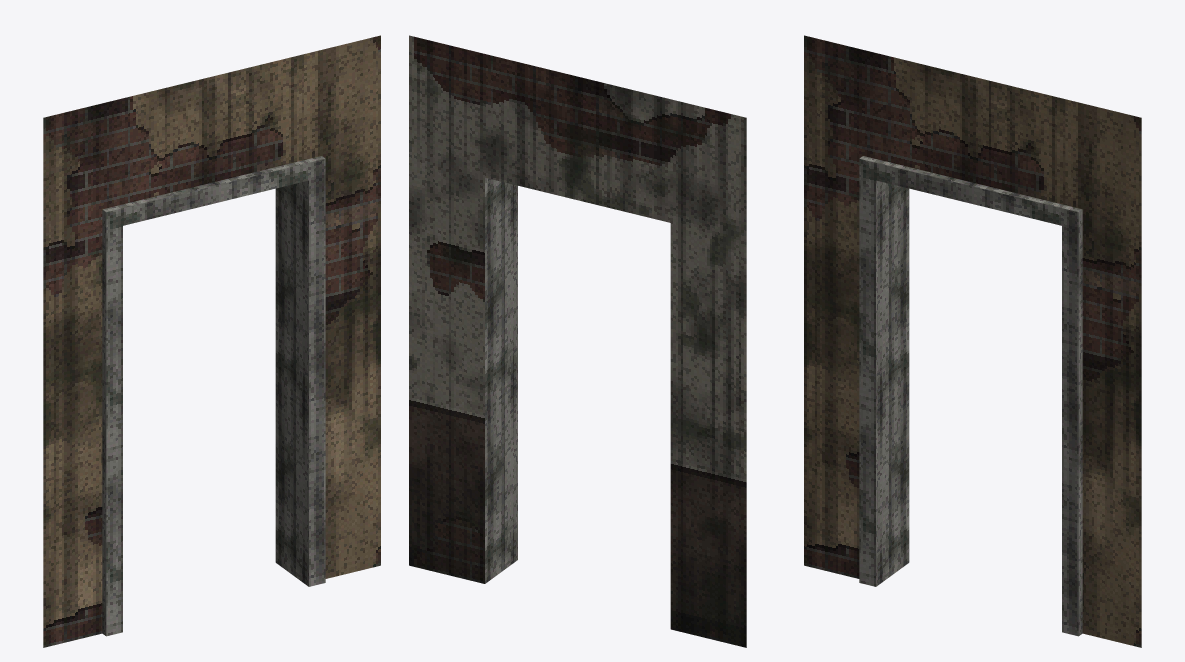
The model's file is ext_door.gltf.
The picture shows the model from 3 angles, left to right: view 1: azimuth 30°, elevation 25°; view 2: azimuth 150°, elevation 25°; view 3: azimuth 330°, elevation 25°; orthographic projection.
Visible parts, largest first — view 1: ext_door-col; view 2: ext_door-col; view 3: ext_door-col.
Part boxes in pixels (x1,y1,x2,y2): ext_door-col: (43, 35, 380, 647); ext_door-col: (409, 35, 746, 647); ext_door-col: (804, 35, 1141, 647).
Size of the model in its own units: 2 by 3 by 0.34.
3 materials, 3 textured.
